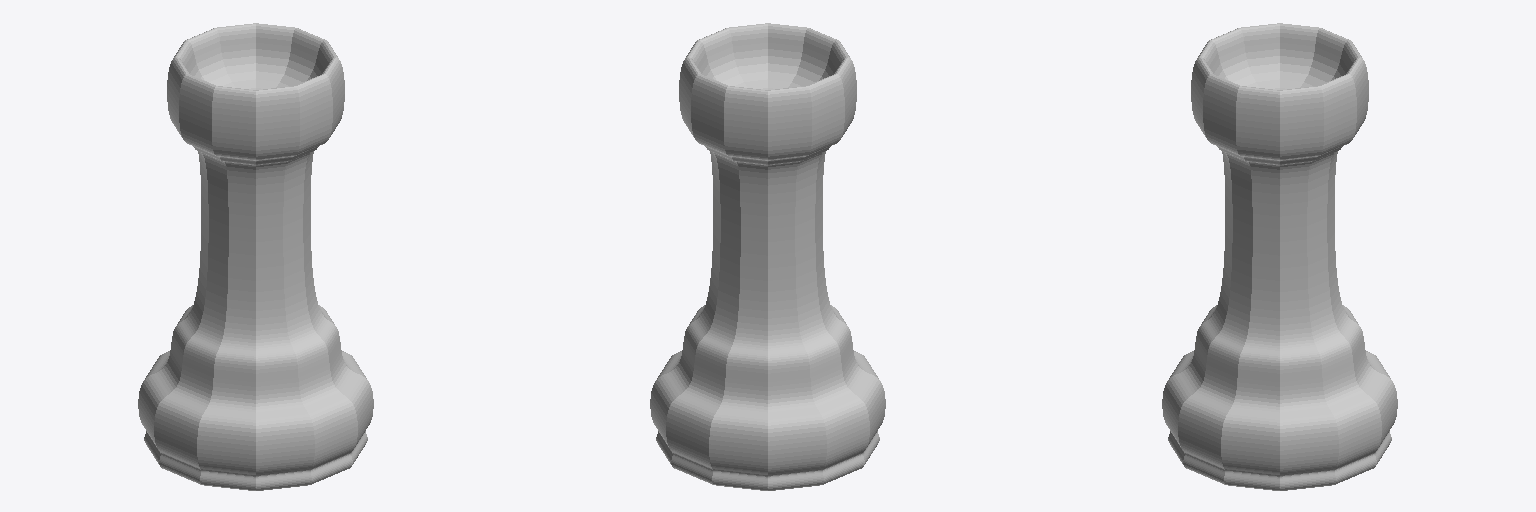
File: Rook.obj
The picture shows the model from 3 angles: view 1: azimuth 30°, elevation 25°; view 2: azimuth 150°, elevation 25°; view 3: azimuth 270°, elevation 25°; orthographic projection.
Parts seen in each view (by area): view 1: Rook_Mesh; view 2: Rook_Mesh; view 3: Rook_Mesh.
Boxes of the visible parts, box(x1,y1,x2,y2) form: Rook_Mesh: box(138, 23, 373, 490); Rook_Mesh: box(650, 23, 885, 490); Rook_Mesh: box(1162, 23, 1397, 490).
Size of the model in its own units: 1.24 by 2.31 by 1.24.